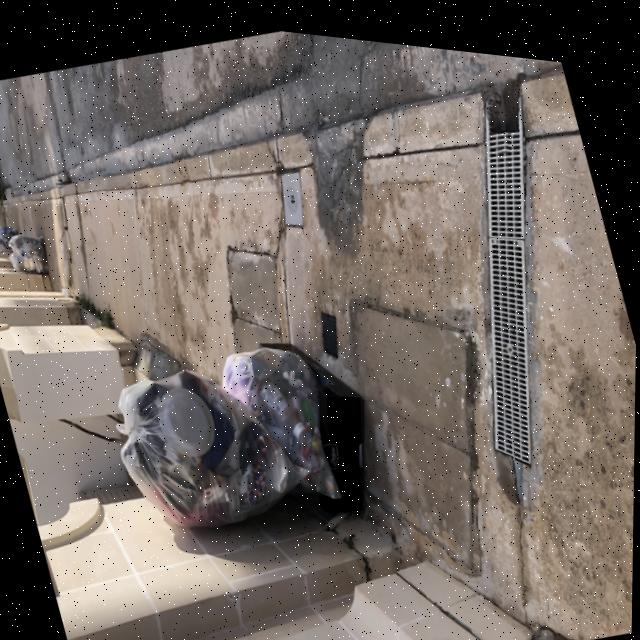Other: (256, 313, 394, 523)
Recycled Waste -Grey or Green Bag-: (104, 331, 324, 551), (216, 328, 353, 517), (5, 225, 54, 280), (1, 221, 24, 253)
